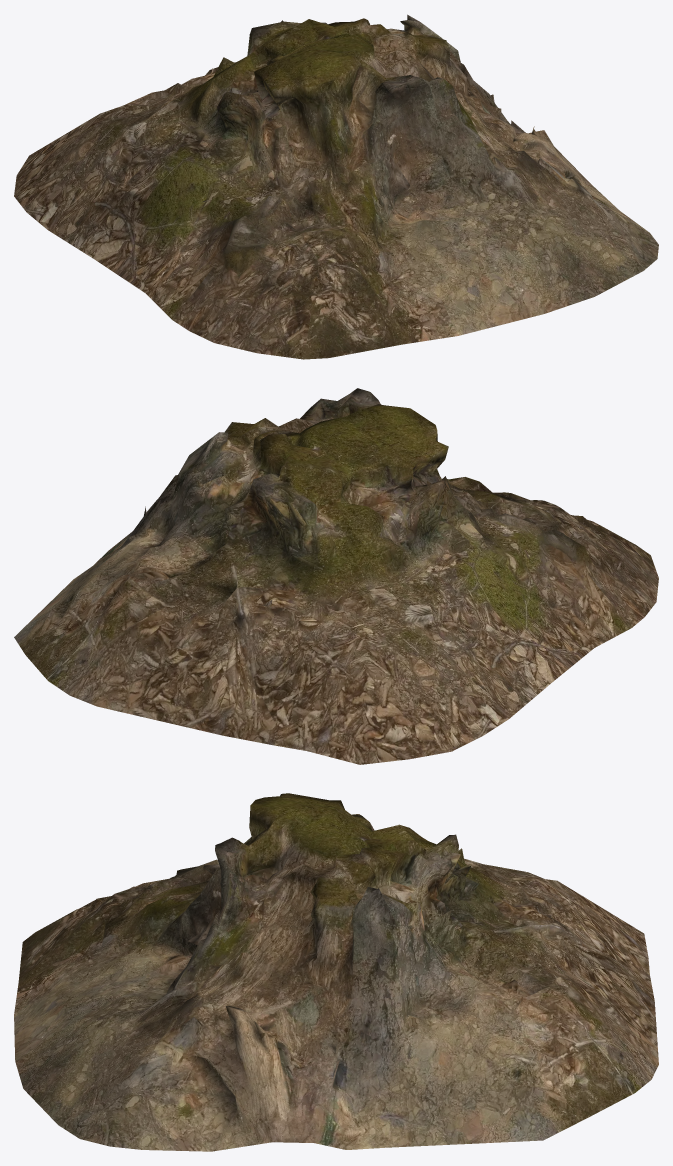
File: tree_stump_01.glb
3 renders of one model, top to bottom at view 1: azimuth 30°, elevation 25°; view 2: azimuth 150°, elevation 25°; view 3: azimuth 270°, elevation 25°, orthographic. The views are drawn at different scales.
Visible parts, largest first — view 1: tree_stump_01; view 2: tree_stump_01; view 3: tree_stump_01.
Part boxes in pixels (x1,y1,x2,y2): tree_stump_01: (14, 14, 658, 359); tree_stump_01: (14, 388, 658, 764); tree_stump_01: (14, 793, 658, 1151).
Size of the model in its own units: 1.43 by 0.571 by 1.59.
Materials: 1 (1 with a texture image).
